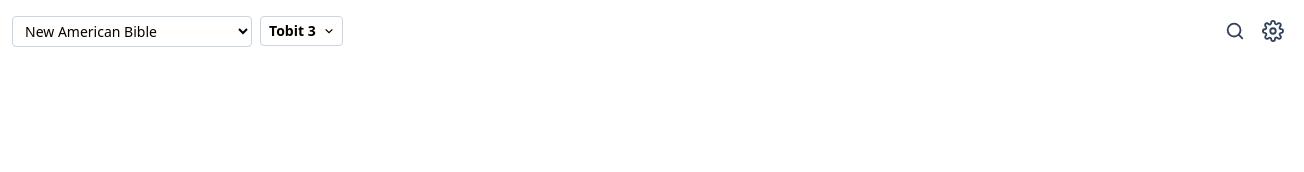
ReaderBar › singleEditionMenuOffersOnlyCompare
Expected: the button "Compare with another edition" is not shown
Click the button named "Reading settings" at (1273, 31), box [1254,12,1292,50]
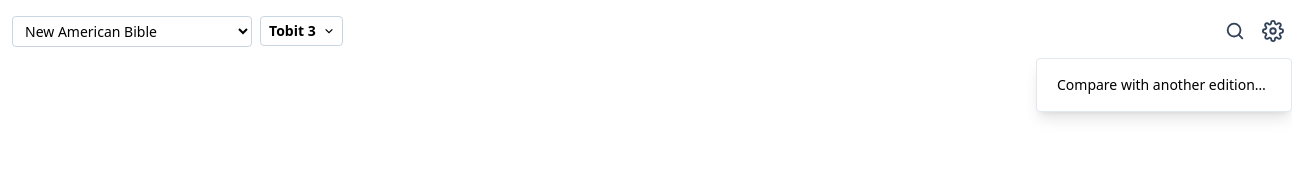
Result: the button "Compare with another edition…" is shown at [1045,67,1283,103]
